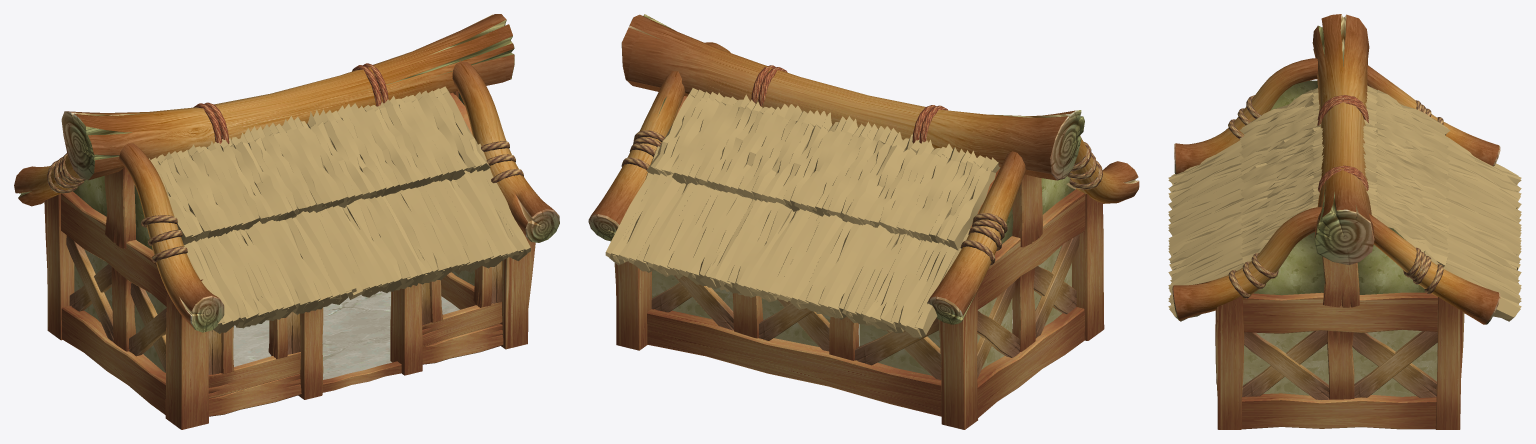
File: ModelBuilding02.fbx
3 views of the same model, side by side, from view 1: azimuth 30°, elevation 25°; view 2: azimuth 150°, elevation 25°; view 3: azimuth 270°, elevation 25° (orthographic). The views are drawn at different scales.
Visible parts, largest first — view 1: ModelBuilding02; view 2: ModelBuilding02; view 3: ModelBuilding02.
Part boxes in pixels (x1,y1,x2,y2): ModelBuilding02: (14,14,559,429); ModelBuilding02: (588,14,1139,429); ModelBuilding02: (1168,14,1521,429).
Size of the model in its own units: 1403 by 855 by 1106.
12 materials, 11 textured.
